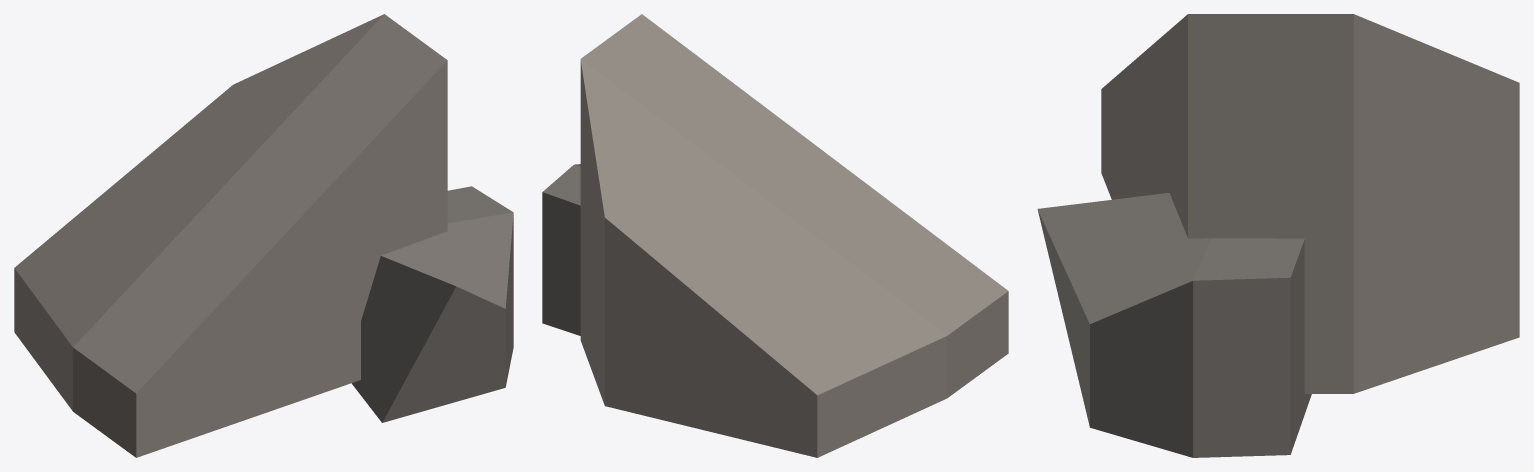
The model's file is shatteredrock4.fbx.
The picture shows the model from 3 angles, left to right: view 1: azimuth 30°, elevation 25°; view 2: azimuth 150°, elevation 25°; view 3: azimuth 270°, elevation 25°; orthographic projection. The views are drawn at different scales.
Parts seen in each view (by area): view 1: ShatteredRock4; view 2: ShatteredRock4; view 3: ShatteredRock4.
Part boxes in pixels (box(x1,y1,x2,y2)): ShatteredRock4: box(14, 14, 513, 457); ShatteredRock4: box(542, 14, 1008, 457); ShatteredRock4: box(1037, 14, 1519, 457).
Size of the model in its own units: 1.18 by 0.8351 by 0.911.
